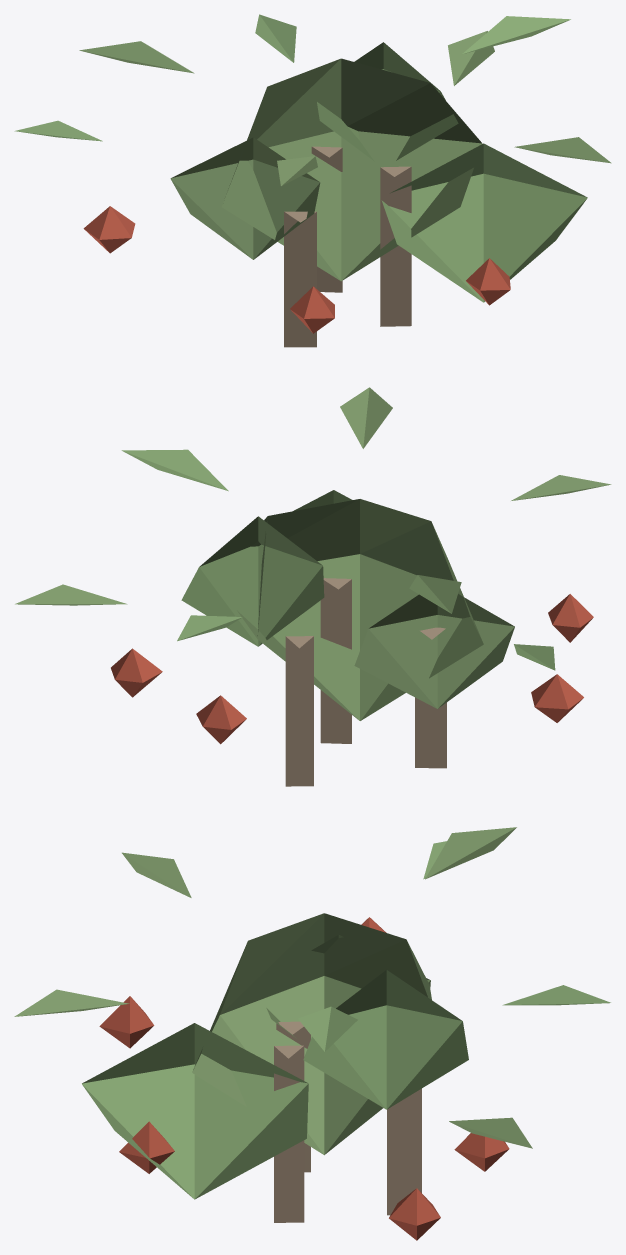
File: guan.yueju@fruiting__spring.glb
3 renders of one model, top to bottom at view 1: azimuth 30°, elevation 25°; view 2: azimuth 150°, elevation 25°; view 3: azimuth 270°, elevation 25°, orthographic. The views are drawn at different scales.
Parts seen in each view (by area): view 1: guan.yueju@fruiting__spring; view 2: guan.yueju@fruiting__spring; view 3: guan.yueju@fruiting__spring.
Part boxes in pixels (box(x1,y1,x2,y2)): guan.yueju@fruiting__spring: box(14, 14, 611, 347); guan.yueju@fruiting__spring: box(15, 387, 611, 786); guan.yueju@fruiting__spring: box(14, 827, 610, 1240).
Size of the model in its own units: 1.84 by 0.9184 by 1.72.
